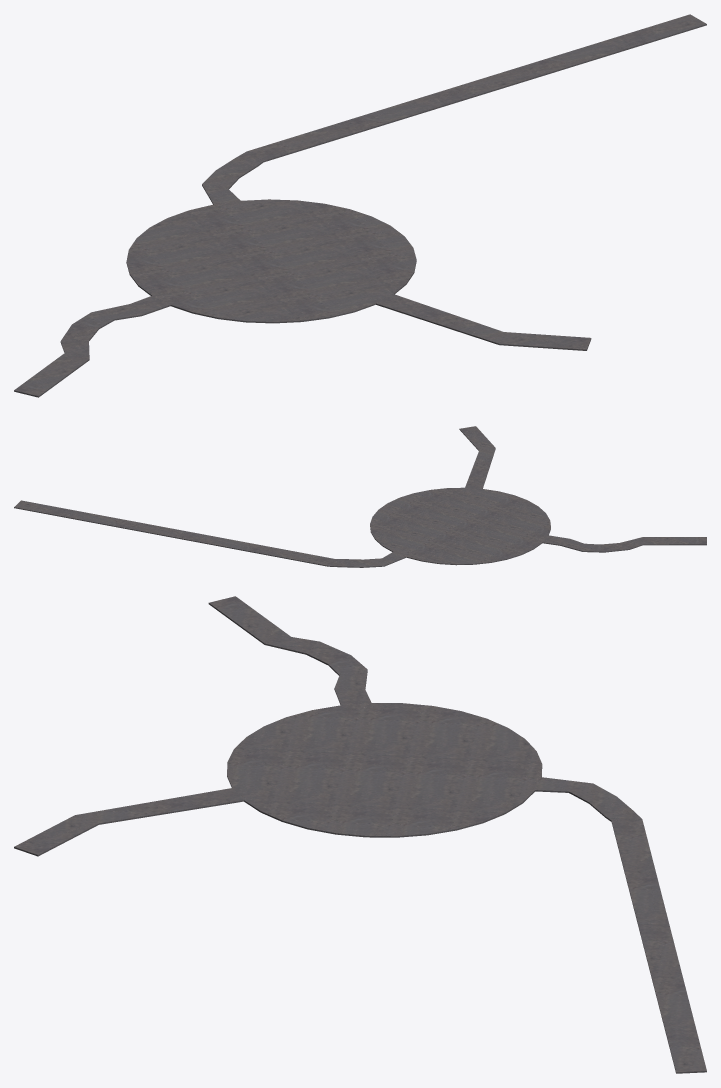
File: pavement.glb
3 renders of one model, top to bottom at view 1: azimuth 30°, elevation 25°; view 2: azimuth 150°, elevation 25°; view 3: azimuth 270°, elevation 25°, orthographic. The views are drawn at different scales.
Visible parts, largest first — view 1: Circle.001; view 2: Circle.001; view 3: Circle.001.
Boxes of the visible parts, <box> form: Circle.001: <box>14,14,706,397</box>; Circle.001: <box>14,426,706,567</box>; Circle.001: <box>14,596,706,1073</box>.
Bounding box in the file's own units: 91.14 × 0.1321 × 56.06.
Materials: 1 (1 with a texture image).
